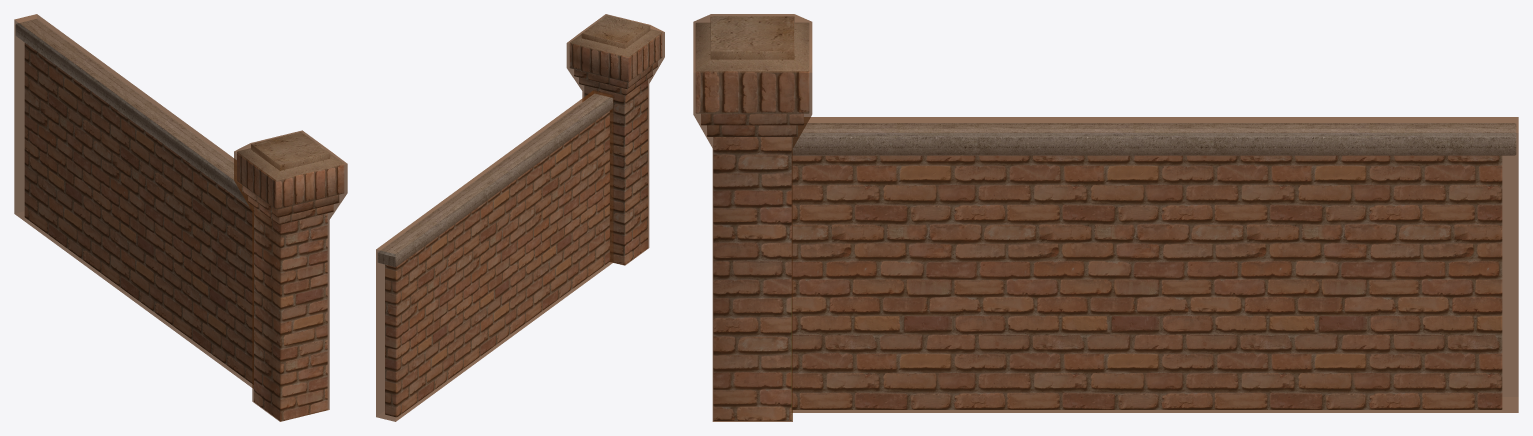
File: wall.FBX
3 renders of one model, left to right at view 1: azimuth 30°, elevation 25°; view 2: azimuth 150°, elevation 25°; view 3: azimuth 270°, elevation 25°, orthographic. The views are drawn at different scales.
Parts seen in each view (by area): view 1: brick_wall_medium_1_column; view 2: brick_wall_medium_1_column; view 3: brick_wall_medium_1_column.
Boxes of the visible parts, <box> form: brick_wall_medium_1_column: <box>14,14,347,421</box>; brick_wall_medium_1_column: <box>376,14,664,421</box>; brick_wall_medium_1_column: <box>693,14,1518,421</box>.
Size of the model in its own units: 89.24 by 611 by 304.
